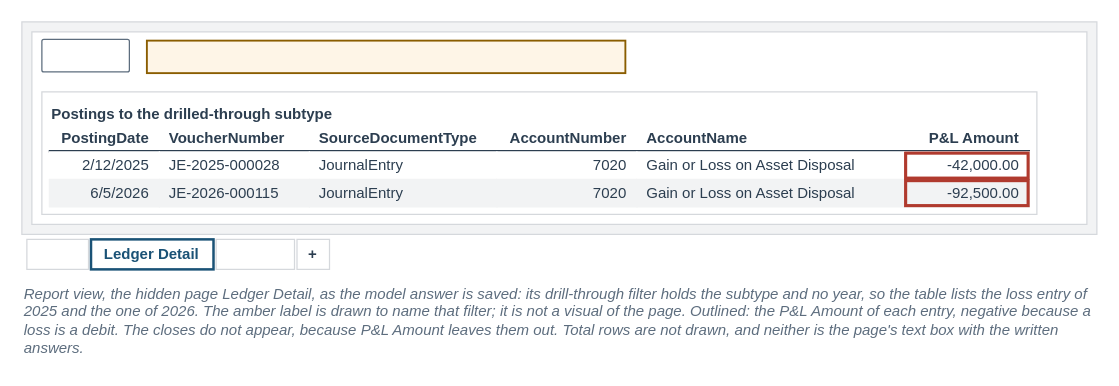
Image size: 1119x386. Some labels were removed from this diagram. Each missing label, with the box of its shape:
Drill-through filter: AccountSubType is Other Income or Expense: (145, 39, 626, 74)
Ex 15.2: (215, 238, 294, 269)
Plant: (26, 238, 88, 269)
◀ Back: (41, 38, 129, 72)
